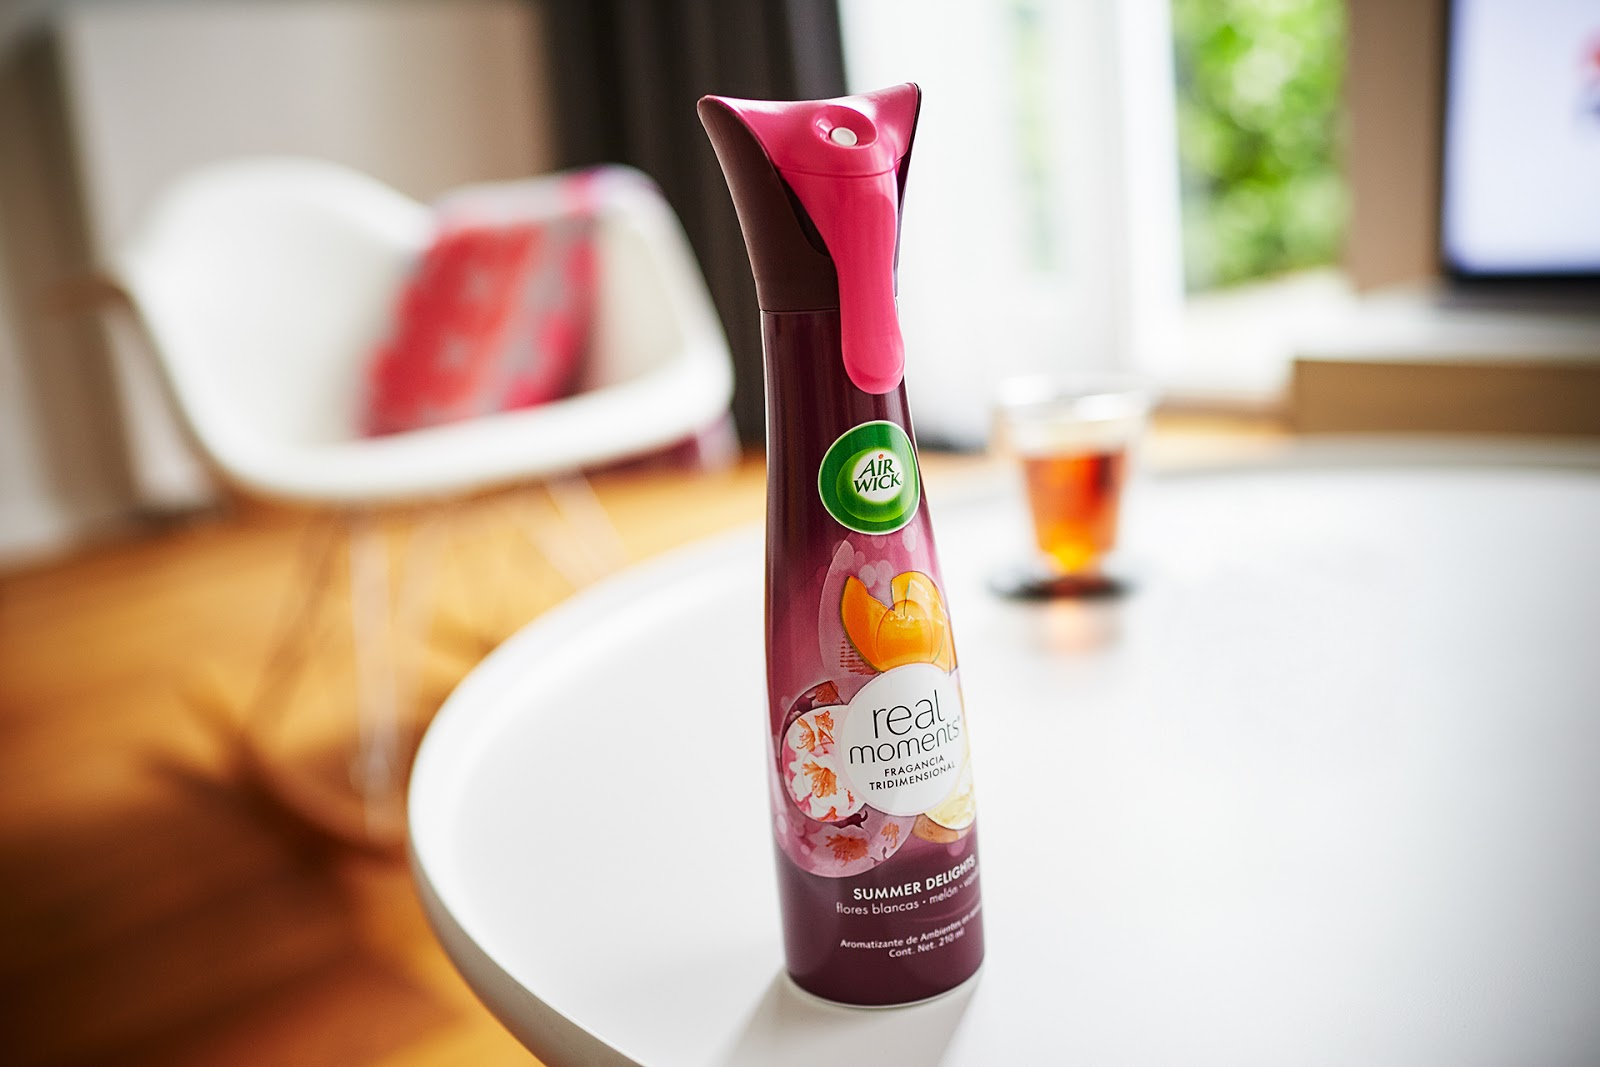Aerosol_cans: (690, 76, 992, 1013)
